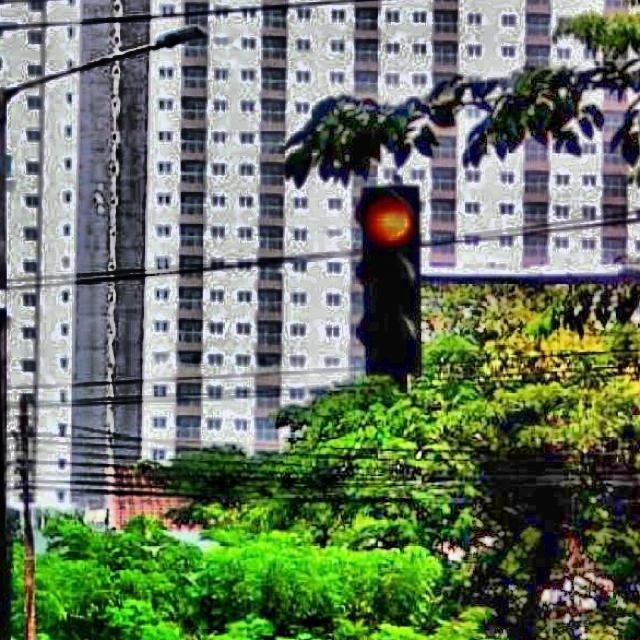red: (360, 179, 420, 377)
